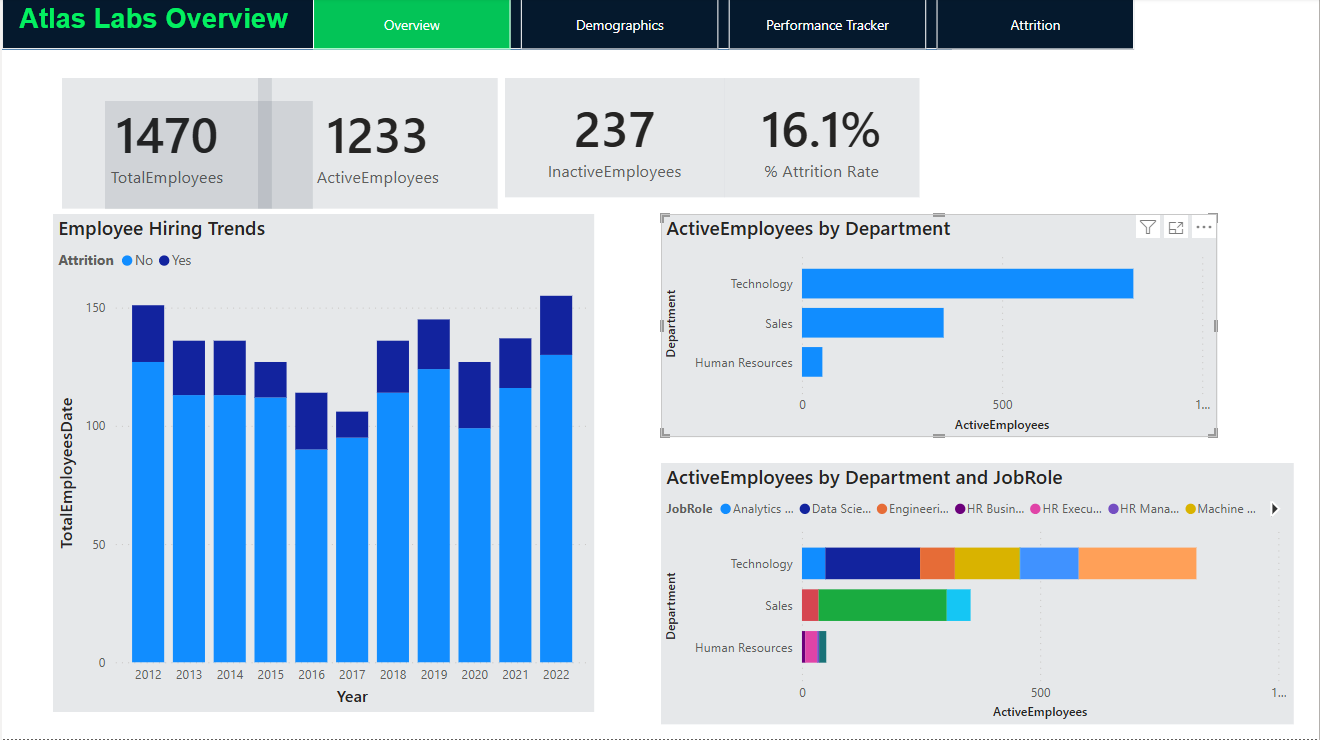

This screenshot's page, from the dashboard's own definition file:
{"tool":"powerbi","page":{"name":"Overview","canvas":[1280,720],"ordinal":0},"visuals":[{"type":"card","fields":{"Values":["_Measures.ActiveEmployees"]},"box":[249,78,233,127],"z":0},{"type":"card","fields":{"Values":["_Measures.InactiveEmployees"]},"box":[489,78,213,116],"z":1000},{"type":"card","fields":{"Values":["_Measures.TotalEmployees"]},"box":[58,78,204,127],"z":2000},{"type":"card","fields":{"Values":["_Measures.% Attrition Rate"]},"box":[702,78,190,116],"z":3000},{"type":"columnChart","title":"Employee Hiring Trends","fields":{"Y":["_Measures.TotalEmployeesDate"],"Category":["DimDate.Date.Variation.Date Hierarchy.Year","DimDate.Date.Variation.Date Hierarchy.Quarter","DimDate.Date.Variation.Date Hierarchy.Month","DimDate.Date.Variation.Date Hierarchy.Day"],"Series":["DimEmployee.Attrition"]},"box":[50,210,526,484],"z":4000},{"type":"clusteredBarChart","fields":{"Y":["_Measures.ActiveEmployees"],"Category":["DimEmployee.Department"]},"box":[640,210,541,217],"z":5000},{"type":"barChart","fields":{"Y":["_Measures.ActiveEmployees"],"Category":["DimEmployee.Department"],"Series":["DimEmployee.JobRole"]},"box":[640,452,615,254],"z":6000},{"type":"shape","box":[0,0,923,50],"z":6001},{"type":"textbox","box":[12,0,477,78],"z":6002},{"type":"textbox","box":[100,100,202,105],"z":6003},{"type":"pageNavigator","box":[302,0,800,50],"z":6004}]}

Visuals, with their boxes in screenshot pixels (x1, y1, x2, y2), scaled from the page's 1280x720 canvas onto the 1320x740 screenshot:
card - _Measures.ActiveEmployees: x1=257, y1=80, x2=497, y2=211
card - _Measures.InactiveEmployees: x1=504, y1=80, x2=724, y2=199
card - _Measures.TotalEmployees: x1=60, y1=80, x2=270, y2=211
card - _Measures.% Attrition Rate: x1=724, y1=80, x2=920, y2=199
"Employee Hiring Trends" columnChart: x1=52, y1=216, x2=594, y2=713
clusteredBarChart - _Measures.ActiveEmployees x DimEmployee.Department: x1=660, y1=216, x2=1218, y2=439
barChart - _Measures.ActiveEmployees x DimEmployee.Department: x1=660, y1=465, x2=1294, y2=726
shape: x1=0, y1=0, x2=952, y2=51
textbox: x1=12, y1=0, x2=504, y2=80
textbox: x1=103, y1=103, x2=311, y2=211
pageNavigator: x1=311, y1=0, x2=1136, y2=51
